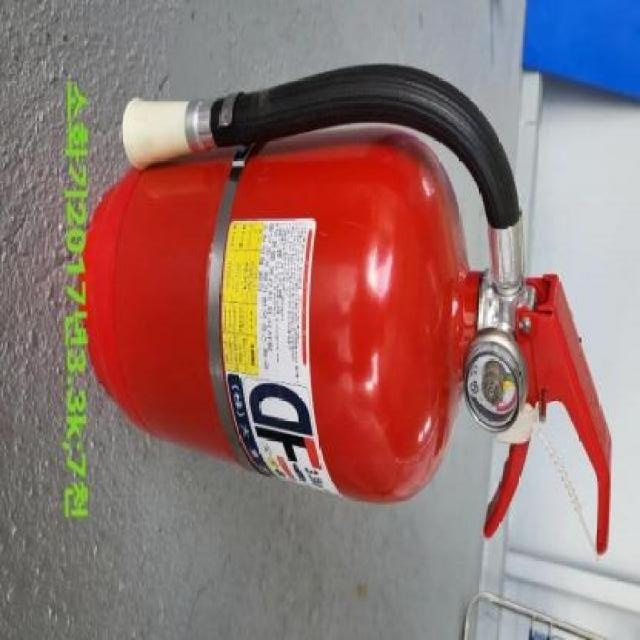fire extinguisher: (82, 61, 613, 557)
